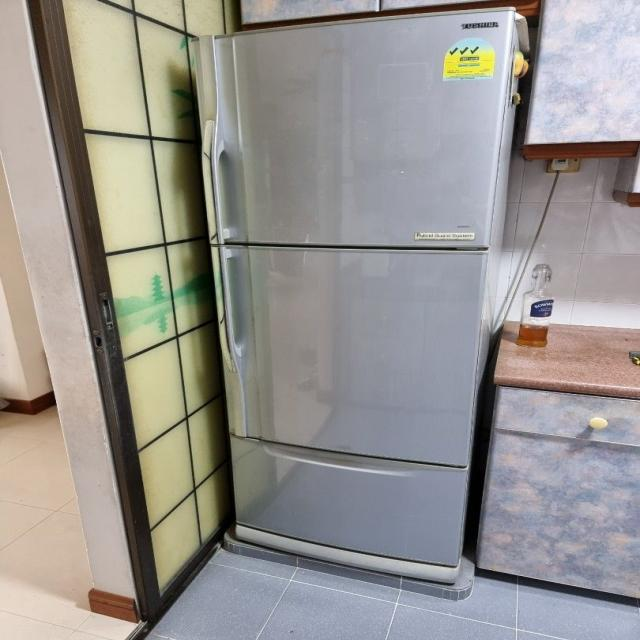refrigerator: (212, 17, 512, 627)
